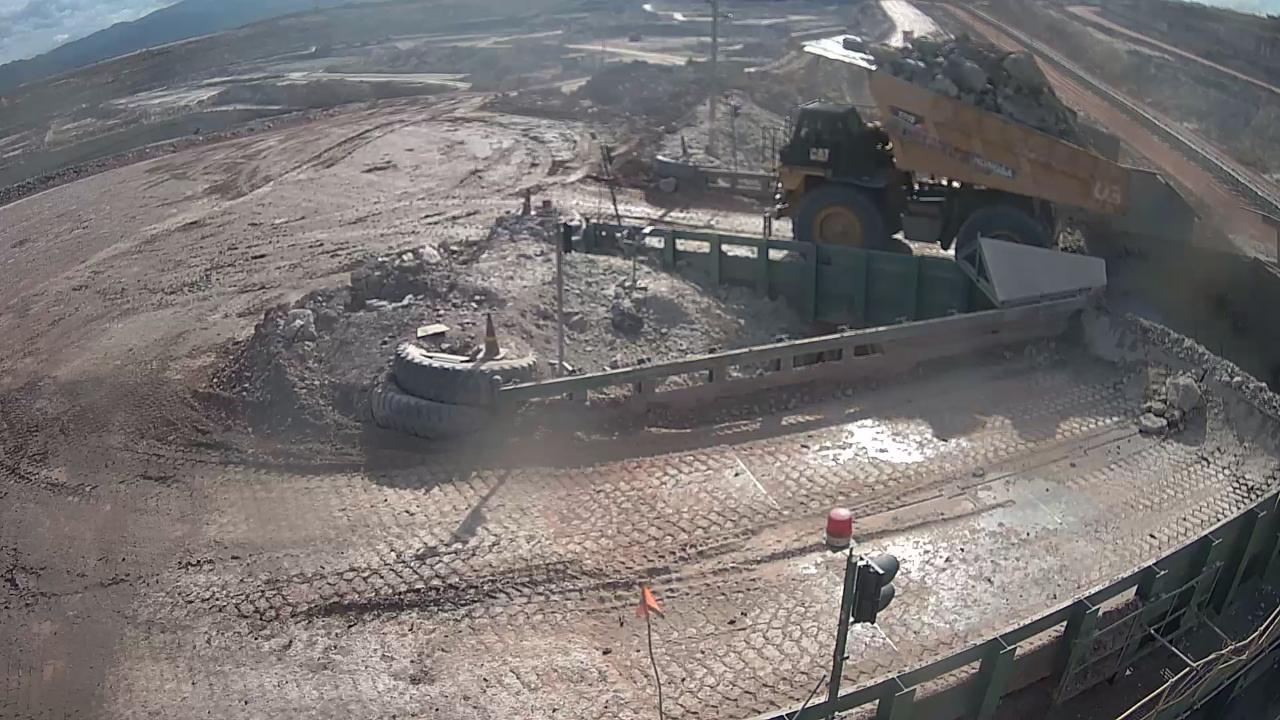dumping_soil: (769, 26, 1144, 272)
full_load: (888, 31, 1097, 142)
tail_number: (1084, 170, 1124, 211)
